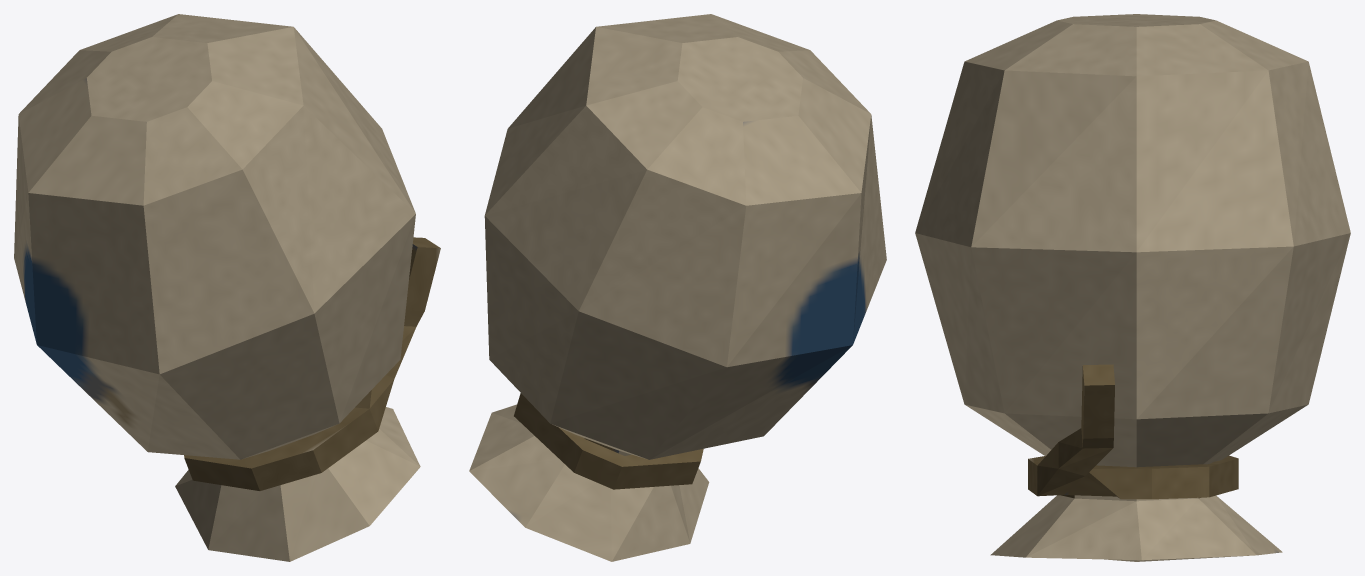
The model's file is bomb_bag.obj.
The picture shows the model from 3 angles, left to right: view 1: azimuth 30°, elevation 25°; view 2: azimuth 150°, elevation 25°; view 3: azimuth 270°, elevation 25°; orthographic projection. The views are drawn at different scales.
Parts seen in each view (by area): view 1: pCube6; view 2: pCube6; view 3: pCube6.
Part boxes in pixels (left/top/right/bottom): pCube6: left=14, top=14, right=440, bottom=561; pCube6: left=469, top=14, right=886, bottom=561; pCube6: left=915, top=14, right=1350, bottom=561.
Bounding box in the file's own units: 1.37 × 1.7 × 1.27.
